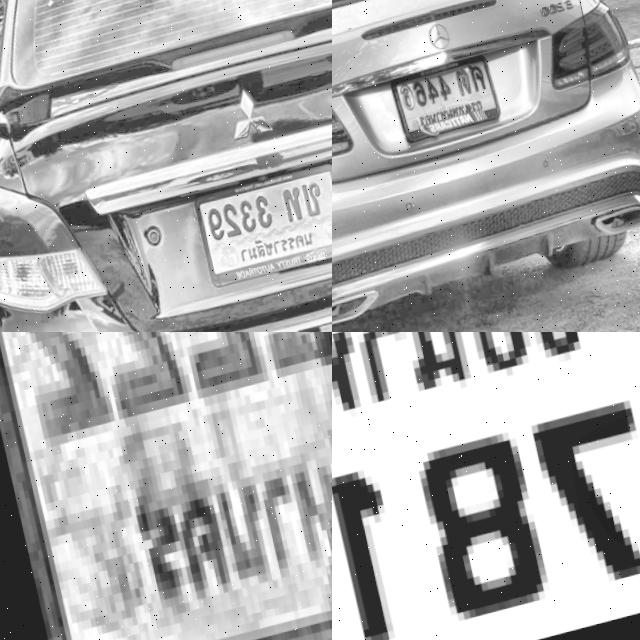license-plate: (0, 332, 332, 640), (332, 332, 640, 640), (188, 164, 332, 293), (387, 58, 501, 156)
